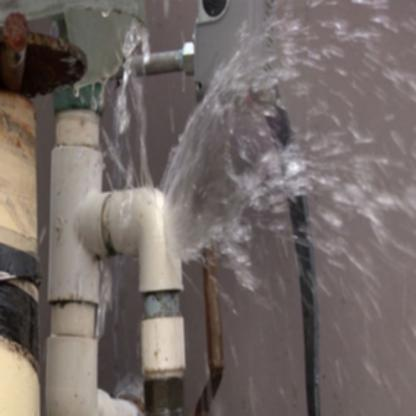burst: (144, 194, 242, 281)
